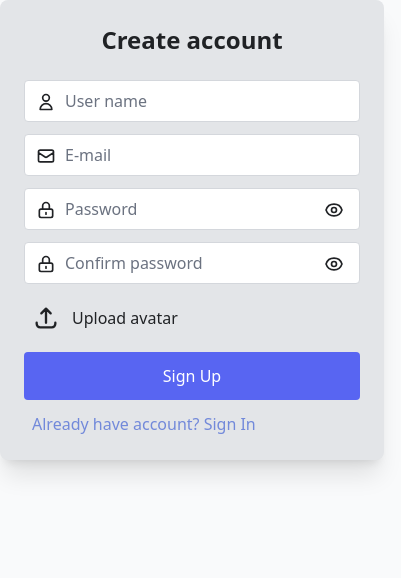
Test case: SignUpForm validation › Should display error message if inputs fields is empty
This screenshot has width=401, height=578.
Click the button with aria-label "sign-up-button": (192, 376) [24,352,360,400]
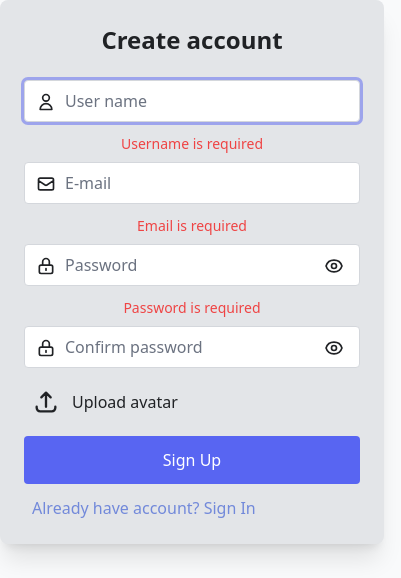
Check: the text "Username is required" is shown, box [121,134,263,153]
Check: the text "Email is required" is shown, box [137,216,247,235]
Check: the text "Password is required" is shown, box [123,298,261,317]
